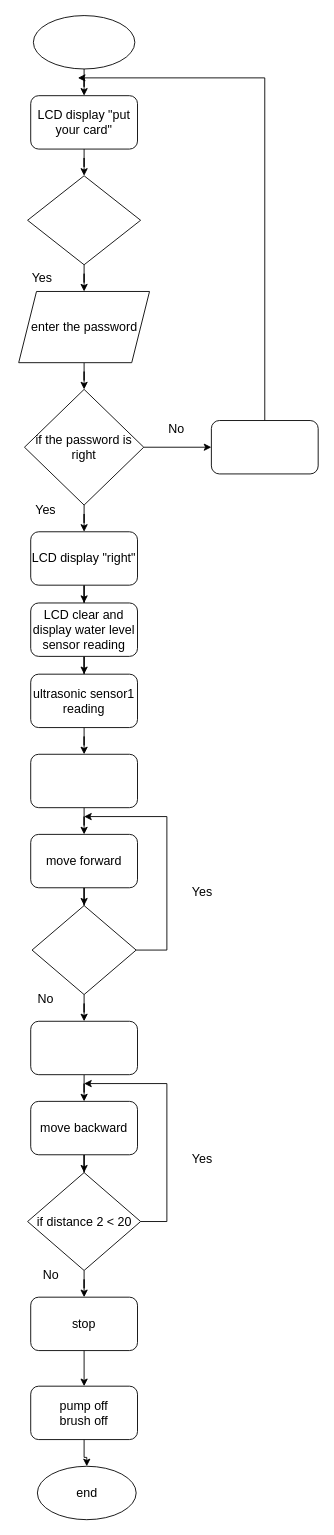
Image size: 334x1535. Some labels were removed from this diagram. The box of each missing label's shape, as (x1, y1, x2, y2) in pixels:
if distance 1 < 20: (31, 905, 136, 995)
if the card is Right: (27, 175, 141, 265)
LCD display "wrong": (210, 420, 318, 474)
pump on brush on: (30, 753, 138, 808)
start: (32, 15, 135, 69)
ultrasonic 2 reading: (30, 1020, 138, 1075)
